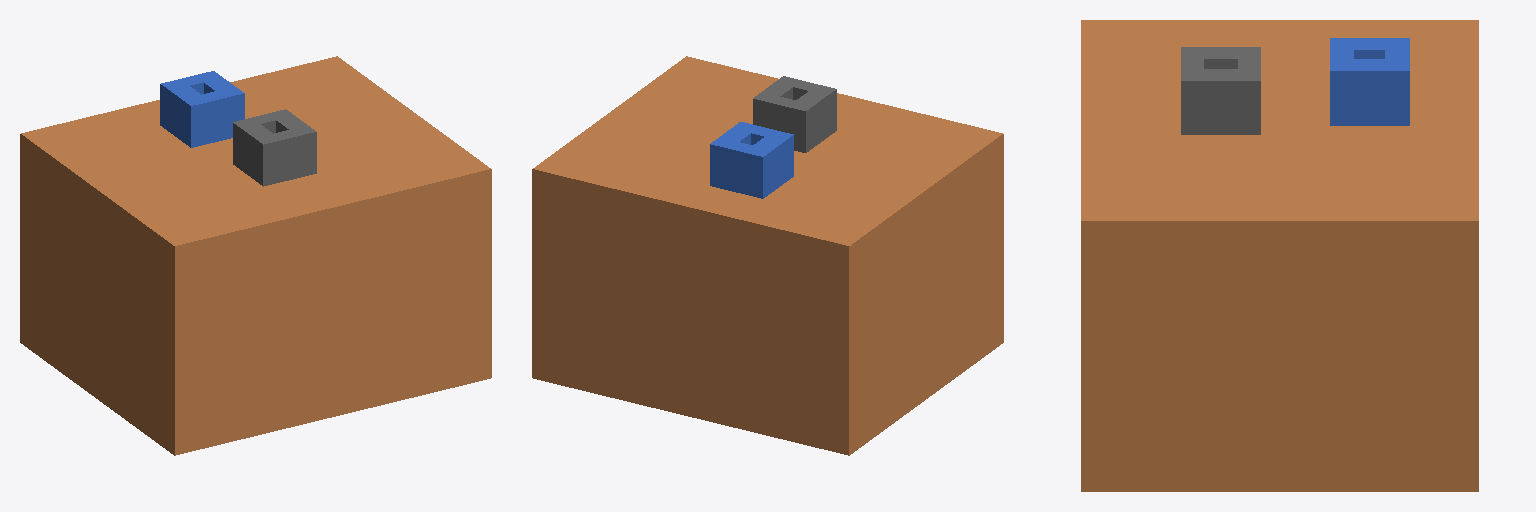
robot.urdf — peg_in_hole_fixtured_scene_0000_peg0009_tol01:
<?xml version="1.0"?>
<robot name="peg_in_hole_fixtured_scene_0000_peg0009_tol01">
  <material name="wood"><color rgba="0.82 0.56 0.35 1.0"/></material>
  <material name="start_fix"><color rgba="0.30 0.50 0.85 1.0"/></material>
  <material name="goal_fix"><color rgba="0.4706 0.4706 0.4706 1.0"/></material>
  <link name="box">
    <visual>
      <origin xyz="0.000000 0.000000 0.000000" rpy="0 0 0"/>
      <geometry><box size="0.475000 0.400000 0.300000"/></geometry>
      <material name="wood"/>
    </visual>
    <collision>
      <origin xyz="0.000000 0.000000 0.000000" rpy="0 0 0"/>
      <geometry><box size="0.475000 0.400000 0.300000"/></geometry>
    </collision>
    <visual>
      <origin xyz="-0.028047 0.090191 0.155000" rpy="0 0 0"/>
      <geometry><box size="0.080000 0.080000 0.010000"/></geometry>
      <material name="start_fix"/>
    </visual>
    <collision>
      <origin xyz="-0.028047 0.090191 0.155000" rpy="0 0 0"/>
      <geometry><box size="0.080000 0.080000 0.010000"/></geometry>
    </collision>
    <visual>
      <origin xyz="-0.002797 0.090191 0.185000" rpy="0 0 0"/>
      <geometry><box size="0.029500 0.080000 0.050000"/></geometry>
      <material name="start_fix"/>
    </visual>
    <collision>
      <origin xyz="-0.002797 0.090191 0.185000" rpy="0 0 0"/>
      <geometry><box size="0.029500 0.080000 0.050000"/></geometry>
    </collision>
    <visual>
      <origin xyz="-0.053297 0.090191 0.185000" rpy="0 0 0"/>
      <geometry><box size="0.029500 0.080000 0.050000"/></geometry>
      <material name="start_fix"/>
    </visual>
    <collision>
      <origin xyz="-0.053297 0.090191 0.185000" rpy="0 0 0"/>
      <geometry><box size="0.029500 0.080000 0.050000"/></geometry>
    </collision>
    <visual>
      <origin xyz="-0.028047 0.117941 0.185000" rpy="0 0 0"/>
      <geometry><box size="0.021000 0.024500 0.050000"/></geometry>
      <material name="start_fix"/>
    </visual>
    <collision>
      <origin xyz="-0.028047 0.117941 0.185000" rpy="0 0 0"/>
      <geometry><box size="0.021000 0.024500 0.050000"/></geometry>
    </collision>
    <visual>
      <origin xyz="-0.028047 0.062441 0.185000" rpy="0 0 0"/>
      <geometry><box size="0.021000 0.024500 0.050000"/></geometry>
      <material name="start_fix"/>
    </visual>
    <collision>
      <origin xyz="-0.028047 0.062441 0.185000" rpy="0 0 0"/>
      <geometry><box size="0.021000 0.024500 0.050000"/></geometry>
    </collision>
    <visual>
      <origin xyz="-0.006004 -0.058878 0.155000" rpy="0 0 0"/>
      <geometry><box size="0.080000 0.080000 0.010000"/></geometry>
      <material name="goal_fix"/>
    </visual>
    <collision>
      <origin xyz="-0.006004 -0.058878 0.155000" rpy="0 0 0"/>
      <geometry><box size="0.080000 0.080000 0.010000"/></geometry>
    </collision>
    <visual>
      <origin xyz="0.019936 -0.058878 0.185000" rpy="0 0 0"/>
      <geometry><box size="0.028121 0.080000 0.050000"/></geometry>
      <material name="goal_fix"/>
    </visual>
    <collision>
      <origin xyz="0.019936 -0.058878 0.185000" rpy="0 0 0"/>
      <geometry><box size="0.028121 0.080000 0.050000"/></geometry>
    </collision>
    <visual>
      <origin xyz="-0.031943 -0.058878 0.185000" rpy="0 0 0"/>
      <geometry><box size="0.028121 0.080000 0.050000"/></geometry>
      <material name="goal_fix"/>
    </visual>
    <collision>
      <origin xyz="-0.031943 -0.058878 0.185000" rpy="0 0 0"/>
      <geometry><box size="0.028121 0.080000 0.050000"/></geometry>
    </collision>
    <visual>
      <origin xyz="-0.006004 -0.030438 0.185000" rpy="0 0 0"/>
      <geometry><box size="0.023758 0.023121 0.050000"/></geometry>
      <material name="goal_fix"/>
    </visual>
    <collision>
      <origin xyz="-0.006004 -0.030438 0.185000" rpy="0 0 0"/>
      <geometry><box size="0.023758 0.023121 0.050000"/></geometry>
    </collision>
    <visual>
      <origin xyz="-0.006004 -0.087317 0.185000" rpy="0 0 0"/>
      <geometry><box size="0.023758 0.023121 0.050000"/></geometry>
      <material name="goal_fix"/>
    </visual>
    <collision>
      <origin xyz="-0.006004 -0.087317 0.185000" rpy="0 0 0"/>
      <geometry><box size="0.023758 0.023121 0.050000"/></geometry>
    </collision>
    <inertial>
      <mass value="500"/>
      <friction value="1.0"/>
      <inertia ixx="1000.0" ixy="0.0" ixz="0.0" iyy="1000.0" iyz="0.0" izz="1000.0"/>
    </inertial>
  </link>
</robot>

--- What the picture shows (computed from the rendered views, not written in the file) ---
3 views of the same robot in one strip: view 1: azimuth 30°, elevation 25°; view 2: azimuth 150°, elevation 25°; view 3: azimuth 270°, elevation 25° (orthographic).
Robot: peg_in_hole_fixtured_scene_0000_peg0009_tol01 — 1 links, 0 joints (none); root link box; default pose: all joints at 0.
Visible links, largest first — view 1: box; view 2: box; view 3: box.
Boxes of the visible links, x1,y1,x2,y2 form: box: [20, 56, 491, 455]; box: [532, 56, 1003, 455]; box: [1081, 20, 1478, 491].
Size in the robot's own frame: 0.475 by 0.4 by 0.36 metres.
Geometry: primitives only (box / cylinder / sphere), no mesh files.
